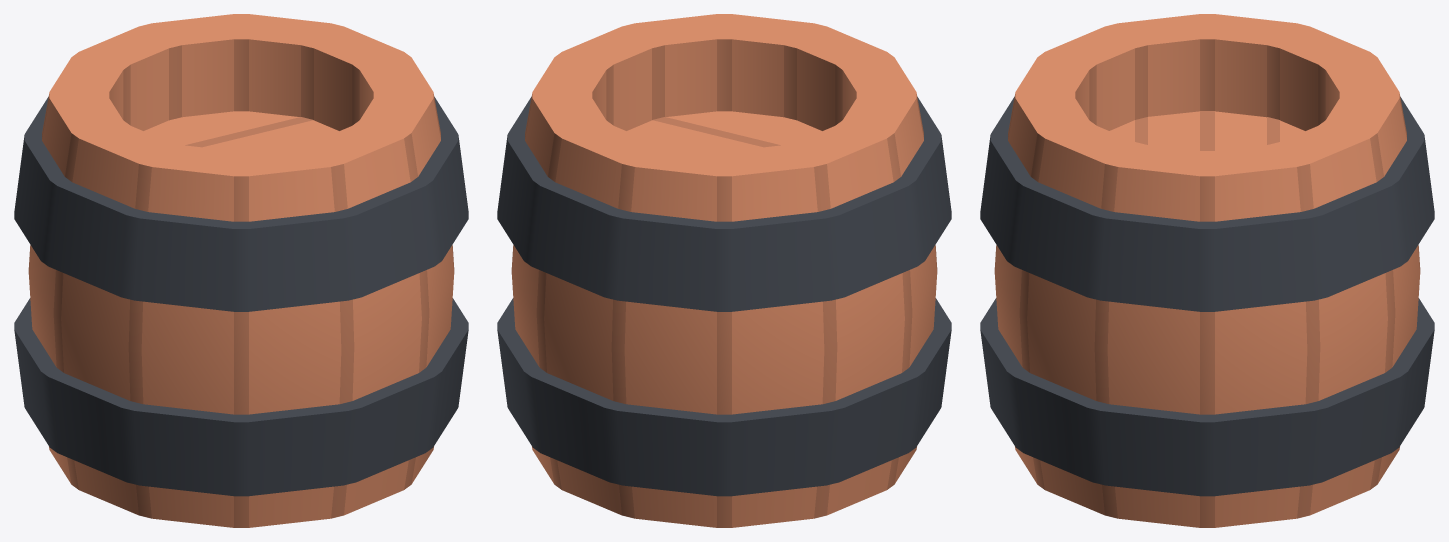
Rendered from Barrel.fbx.
3 views of the same model, side by side, from view 1: azimuth 30°, elevation 25°; view 2: azimuth 150°, elevation 25°; view 3: azimuth 270°, elevation 25° (orthographic).
Visible parts, largest first — view 1: Barrel; view 2: Barrel; view 3: Barrel.
Boxes of the visible parts, bbox=[...] form: Barrel: bbox=[14, 14, 468, 527]; Barrel: bbox=[497, 14, 951, 527]; Barrel: bbox=[980, 14, 1434, 527].
Bounding box in the file's own units: 166 × 142 × 166.
